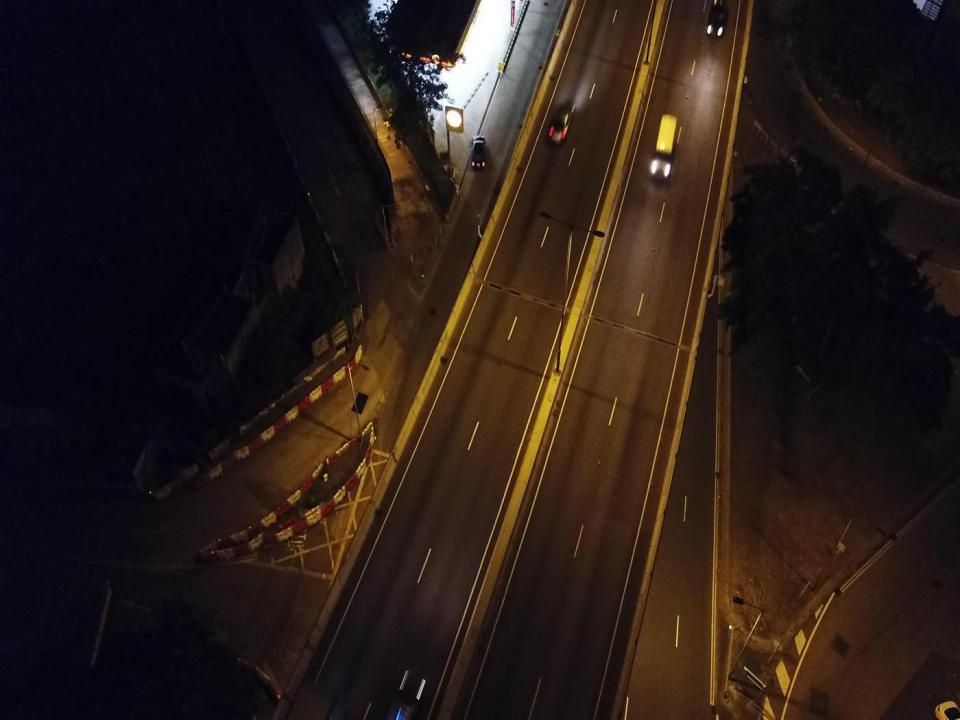car: (385, 669, 432, 719), (548, 99, 574, 144), (706, 0, 728, 37), (471, 137, 486, 169)
truck: (651, 115, 678, 182)
